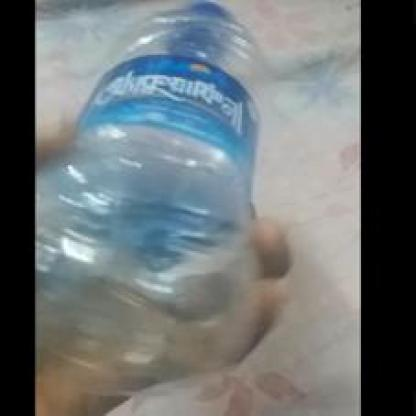bottle: (52, 4, 282, 391)
